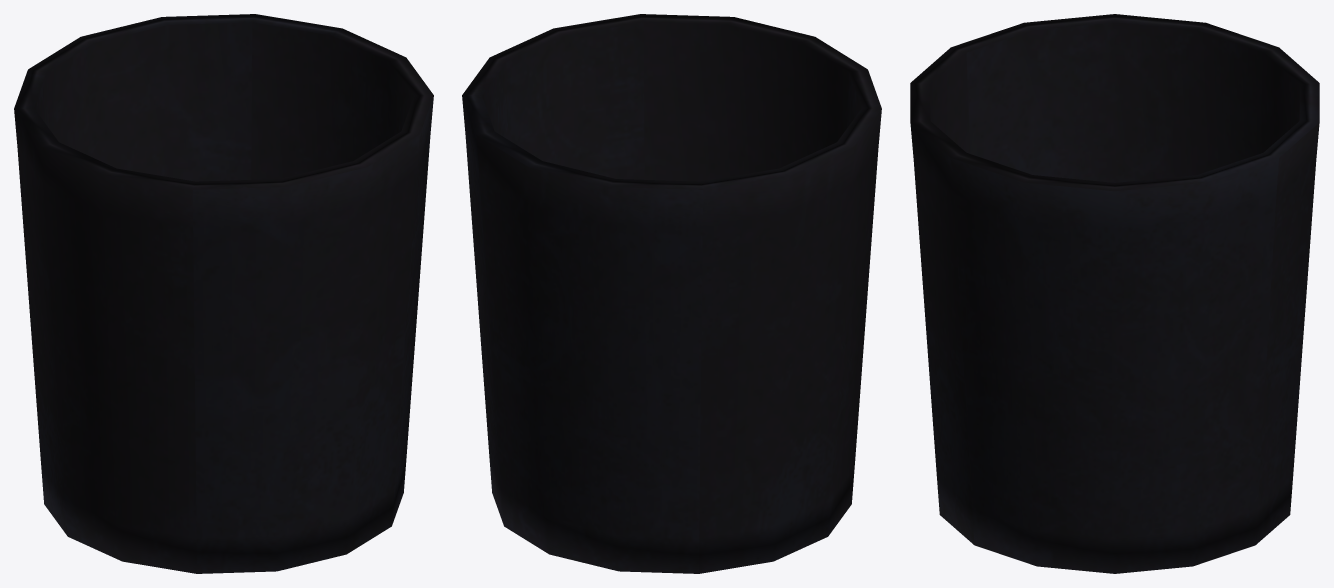
The model's file is Trash.fbx.
The picture shows the model from 3 angles, left to right: view 1: azimuth 30°, elevation 25°; view 2: azimuth 150°, elevation 25°; view 3: azimuth 270°, elevation 25°; orthographic projection.
Parts seen in each view (by area): view 1: Trash; view 2: Trash; view 3: Trash.
Boxes of the visible parts, bbox=[...] form: Trash: bbox=[14, 14, 433, 573]; Trash: bbox=[462, 14, 881, 573]; Trash: bbox=[910, 14, 1319, 573].
Bounding box in the file's own units: 31.66 × 32.91 × 30.87.
Materials: 1 (1 with a texture image).
